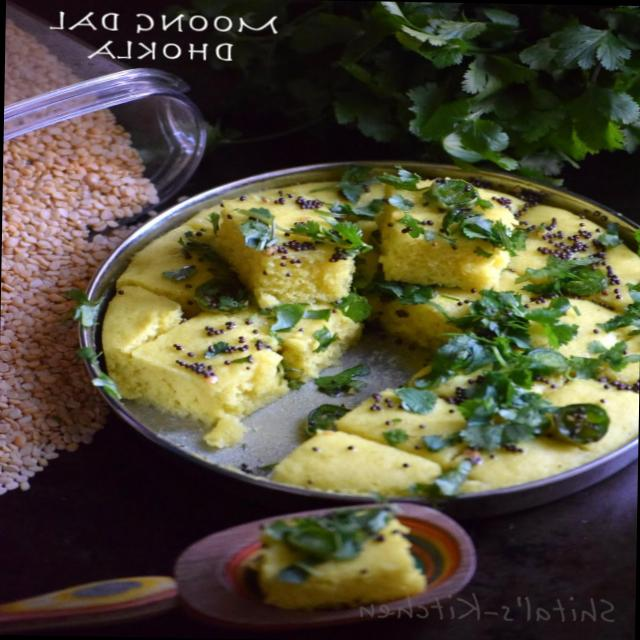dhokla: (106, 162, 637, 484)
